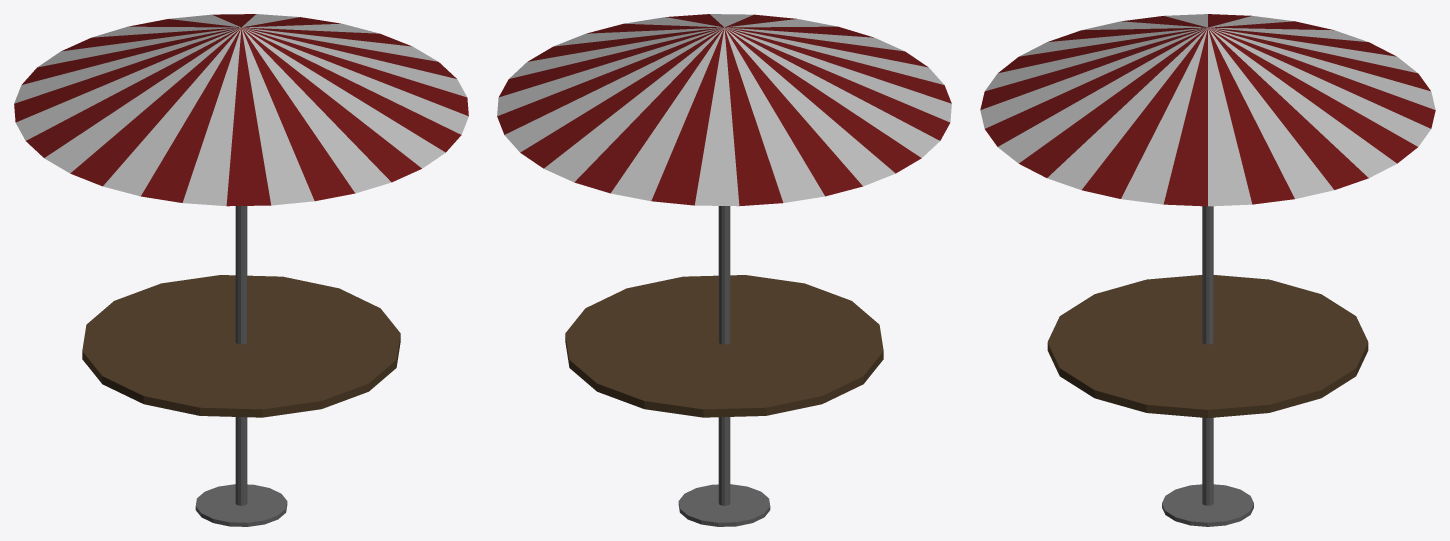
File: TableWithUmbrela(Round).fbx
The picture shows the model from 3 angles, left to right: view 1: azimuth 30°, elevation 25°; view 2: azimuth 150°, elevation 25°; view 3: azimuth 270°, elevation 25°; orthographic projection.
Parts seen in each view (by area): view 1: Cone, Cylinder.002, Cylinder, Cylinder.001; view 2: Cone, Cylinder.002, Cylinder, Cylinder.001; view 3: Cone, Cylinder.002, Cylinder, Cylinder.001.
Boxes of the visible parts, x1,y1,x2,y2 form: Cone: (14, 14, 468, 206); Cylinder.002: (82, 275, 400, 417); Cylinder: (195, 484, 287, 526); Cylinder.001: (235, 206, 247, 505); Cone: (497, 14, 951, 206); Cylinder.002: (565, 275, 883, 417); Cylinder: (678, 484, 770, 526); Cylinder.001: (718, 206, 730, 505); Cone: (980, 14, 1435, 206); Cylinder.002: (1047, 275, 1368, 417); Cylinder: (1162, 484, 1253, 526); Cylinder.001: (1202, 206, 1213, 505).
Size of the model in its own units: 200 by 232 by 200.
